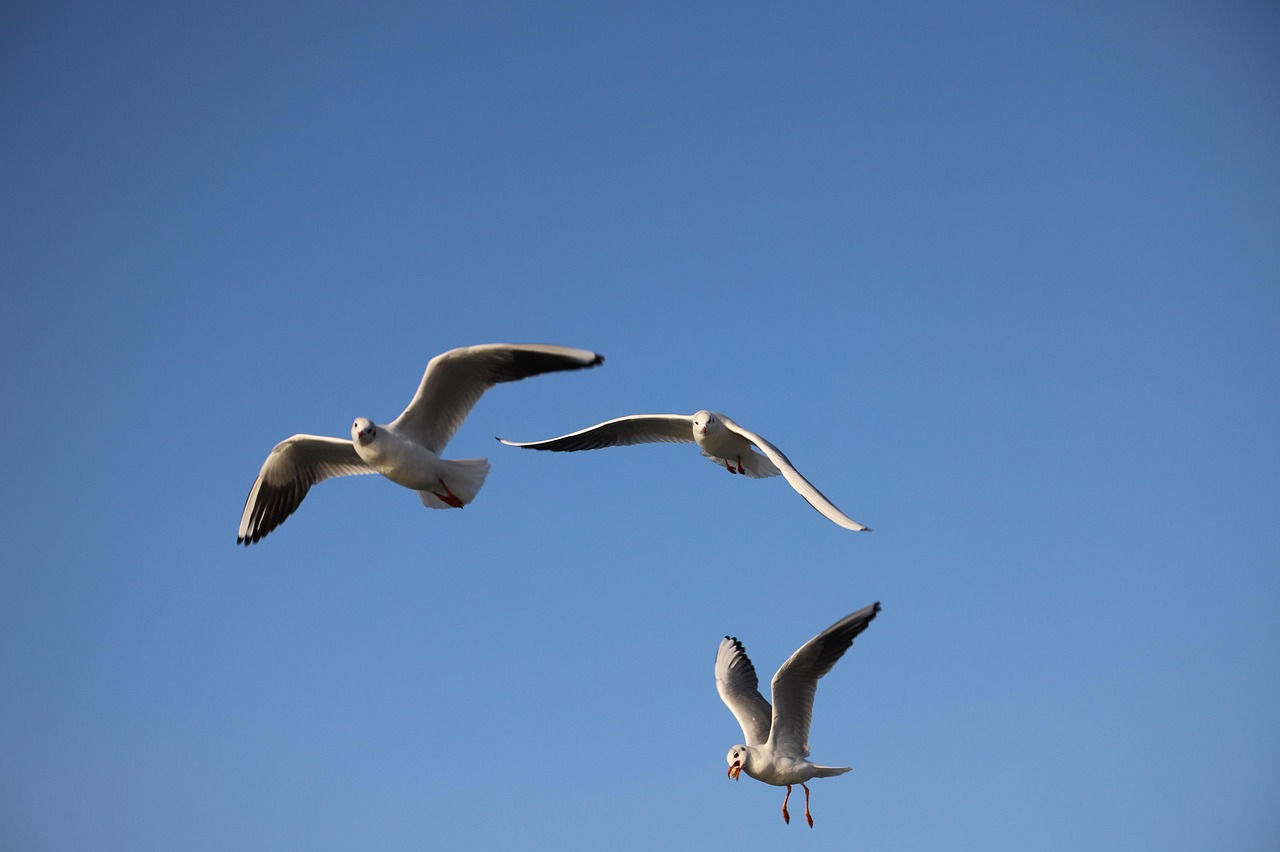burung: (172, 256, 625, 606), (655, 576, 916, 825), (483, 389, 896, 539)
